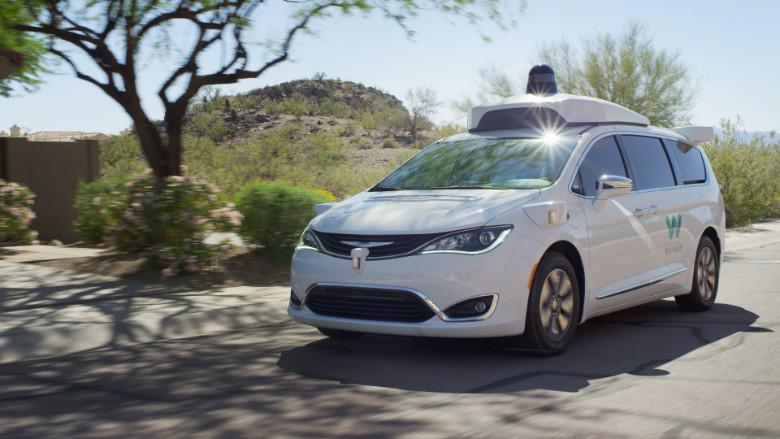car: (271, 60, 753, 370)
